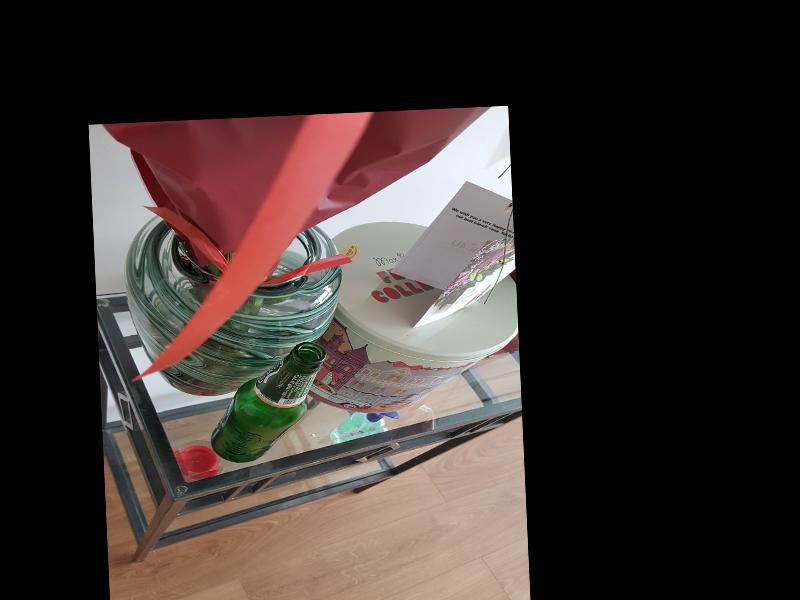Beer: (205, 341, 329, 463)
